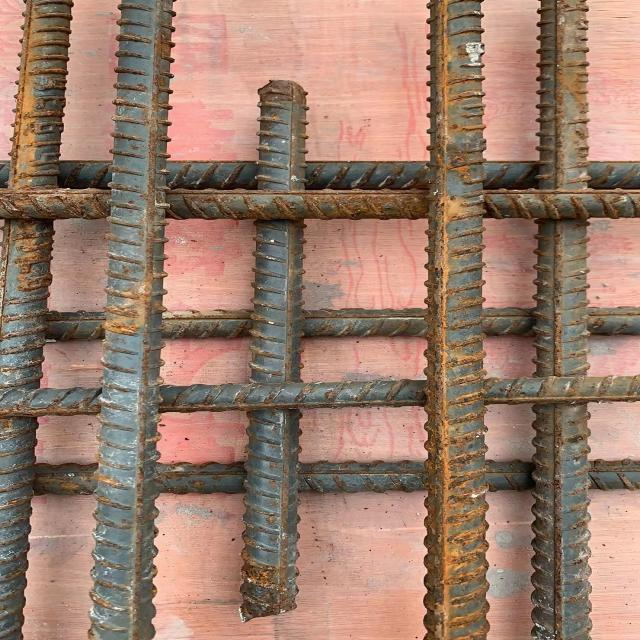ribbed bar: (83, 1, 179, 639), (0, 0, 76, 638), (422, 0, 492, 639), (526, 1, 596, 640), (236, 80, 312, 622), (0, 375, 639, 417), (30, 456, 639, 500), (46, 305, 639, 345), (0, 188, 639, 222), (0, 158, 639, 189)
